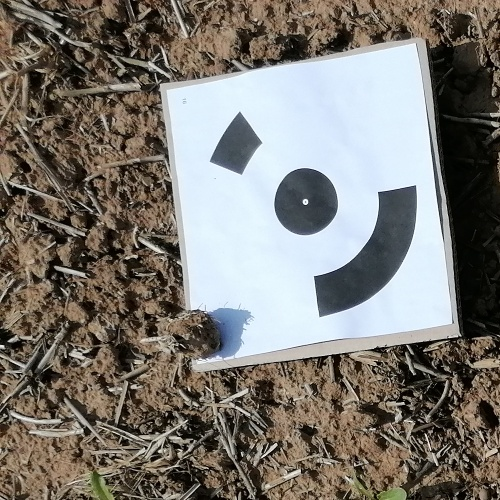beet: (91, 468, 124, 500), (372, 485, 411, 500)
